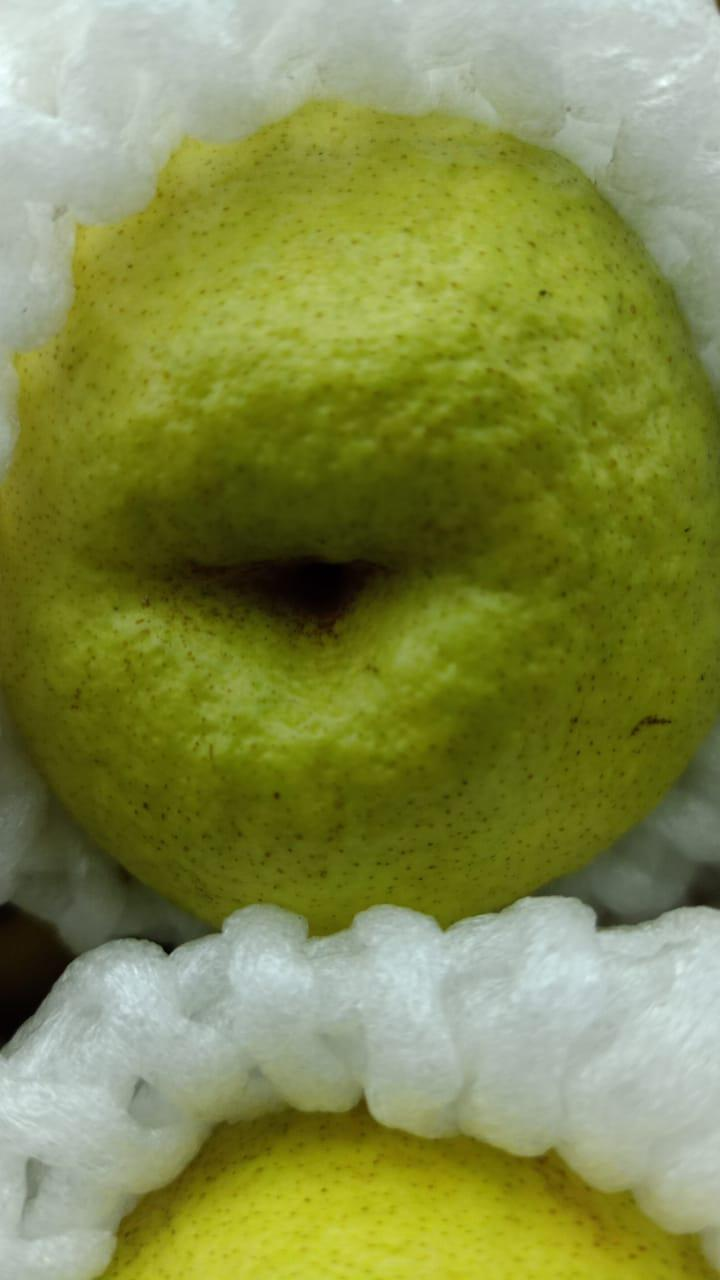Pear Overripe: (0, 117, 675, 943)
Pear Unripe: (82, 203, 585, 817)
